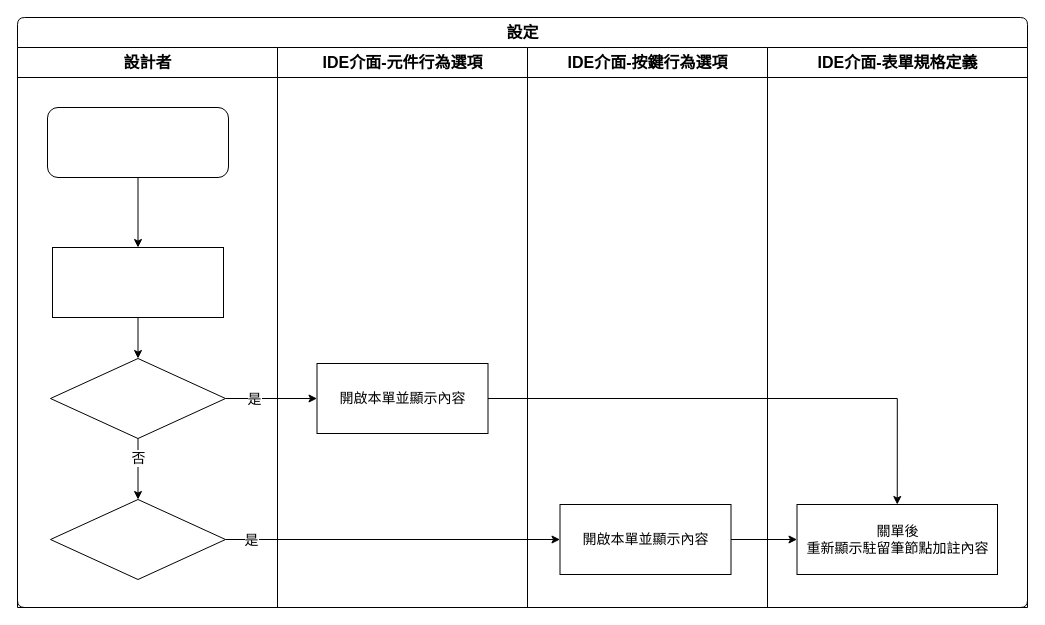
This 1045x625 diagram has some shape labels left out. Each missing label, with the centre of its shape:
執行按鈕: 設定: (138,282)
開啟: 表單規格定義: (137,142)
駐留元件節點: (138,398)
駐留按鍵節點: (138,539)
